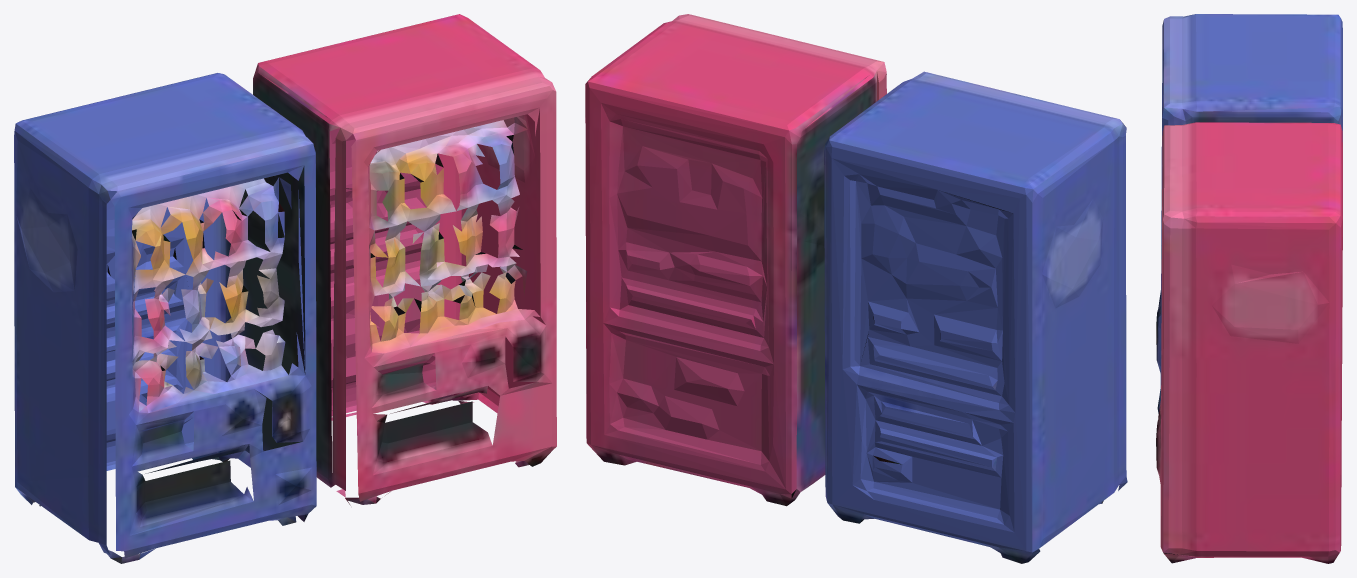
Rendered from M-10_04_vending.glb.
3 views of the same model, side by side, from view 1: azimuth 30°, elevation 25°; view 2: azimuth 150°, elevation 25°; view 3: azimuth 270°, elevation 25° (orthographic). The views are drawn at different scales.
Parts seen in each view (by area): view 1: loA; view 2: loA; view 3: loA.
Part boxes in pixels (x1,y1,x2,y2): loA: (14, 14, 556, 563); loA: (585, 14, 1127, 563); loA: (1156, 14, 1342, 563).
Bounding box in the file's own units: 3.34 × 2.69 × 1.28.
Materials: 2 (2 with a texture image).
